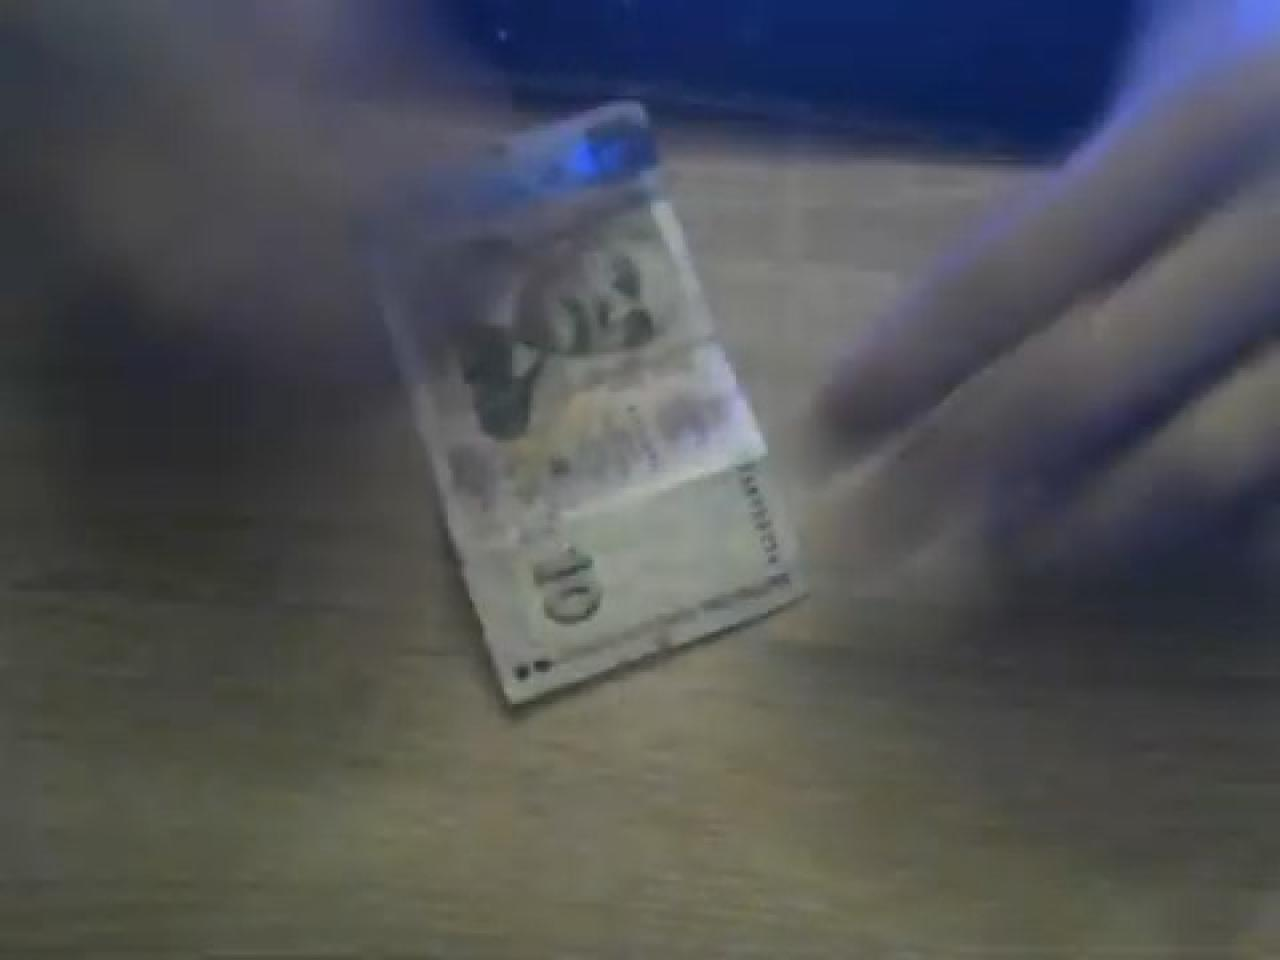10leva: (358, 101, 808, 717)
